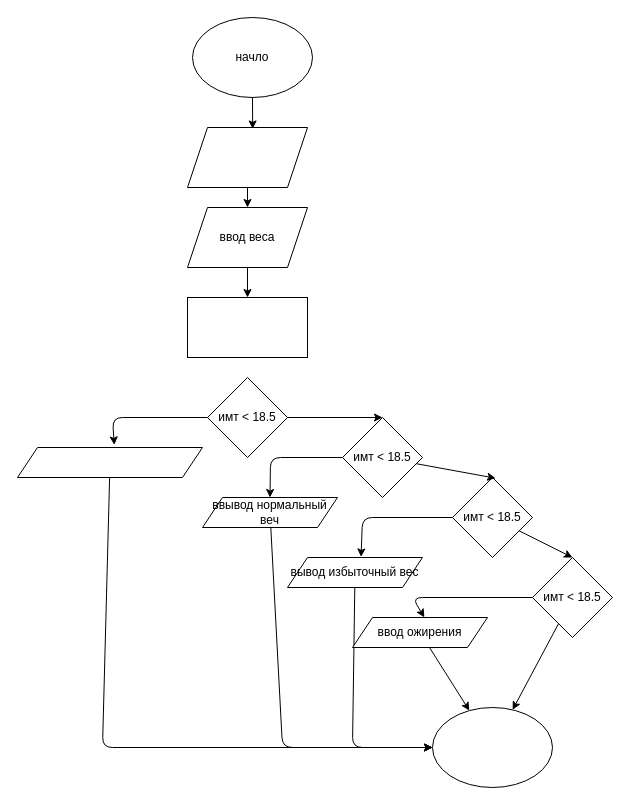
Some shapes in this 630 by 805 pixel diagram are drawn without their labels. Each missing label, with the centre of its shape:
"ввод роста" belongs at [247,157].
"ввыод недостаточный вес" belongs at [109,462].
"имт = вес / рост 2" belongs at [247,327].
"конеу" belongs at [492,747].
